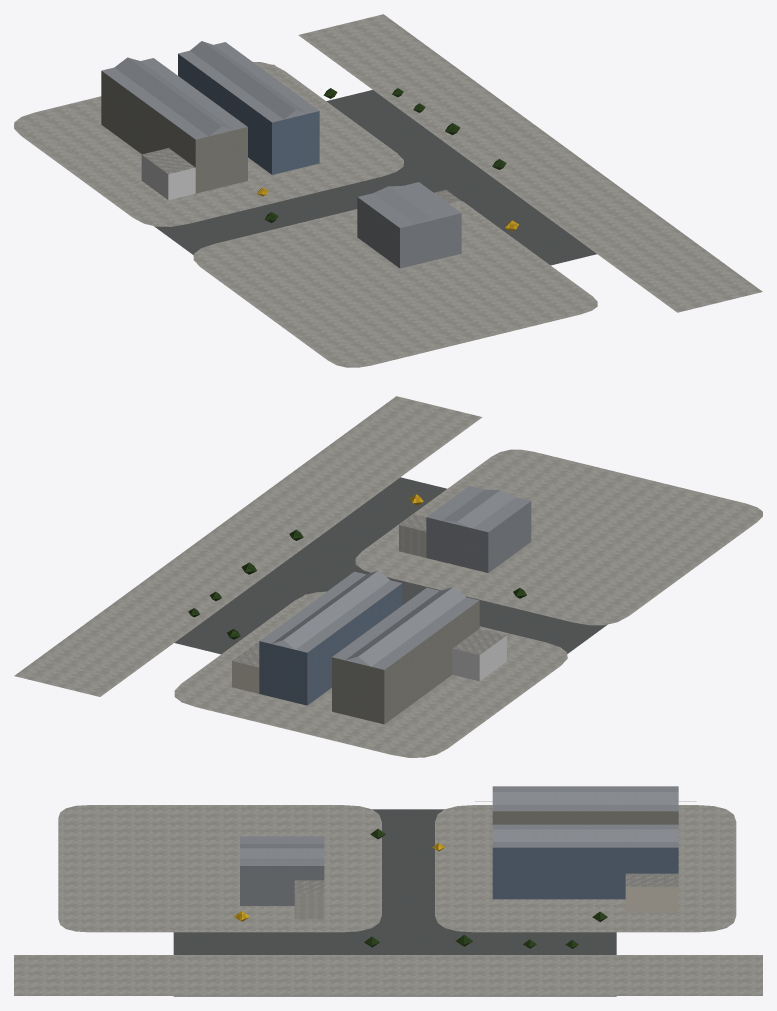
The model's file is cidade_S07_03_lod.gltf.
3 renders of one model, top to bottom at view 1: azimuth 30°, elevation 25°; view 2: azimuth 150°, elevation 25°; view 3: azimuth 270°, elevation 25°, orthographic. The views are drawn at different scales.
Parts seen in each view (by area): view 1: S07_03_Chao_LOD2, S07_03_Edificios_LOD1, S07_03_Silhueta_LOD2, S07_03_Vegetacao_LOD2; view 2: S07_03_Chao_LOD2, S07_03_Edificios_LOD1, S07_03_Silhueta_LOD2, S07_03_Vegetacao_LOD2; view 3: S07_03_Chao_LOD2, S07_03_Edificios_LOD1, S07_03_Silhueta_LOD2, S07_03_Vegetacao_LOD2.
Part boxes in pixels (x1,y1,x2,y2): S07_03_Chao_LOD2: [14, 14, 762, 367]; S07_03_Edificios_LOD1: [33, 41, 512, 268]; S07_03_Silhueta_LOD2: [101, 42, 461, 267]; S07_03_Vegetacao_LOD2: [257, 88, 518, 231]; S07_03_Chao_LOD2: [14, 396, 762, 757]; S07_03_Edificios_LOD1: [193, 489, 548, 735]; S07_03_Silhueta_LOD2: [259, 486, 531, 724]; S07_03_Vegetacao_LOD2: [188, 494, 526, 639]; S07_03_Chao_LOD2: [14, 805, 762, 996]; S07_03_Edificios_LOD1: [240, 792, 696, 919]; S07_03_Silhueta_LOD2: [240, 786, 678, 905]; S07_03_Vegetacao_LOD2: [234, 828, 607, 948].
Size of the model in its own units: 102 by 15.13 by 169.
12 materials, 12 textured.
